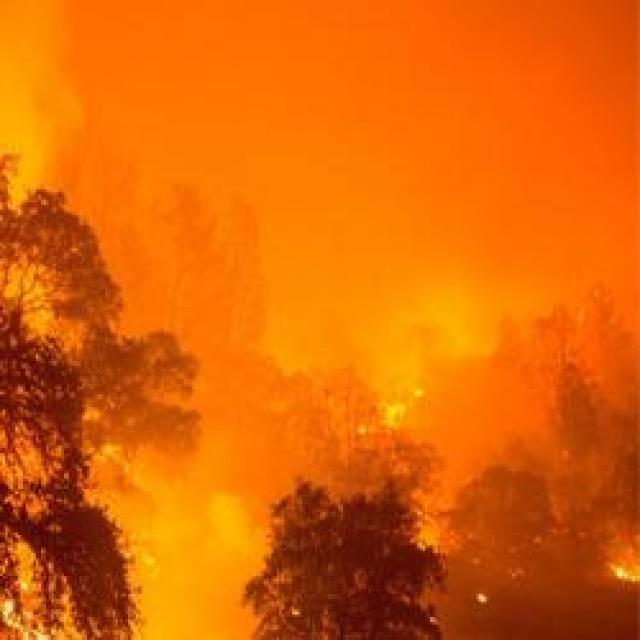fire: (385, 404, 406, 428), (614, 566, 636, 584)
smoke: (147, 481, 243, 637), (0, 0, 84, 130), (426, 285, 490, 363)
